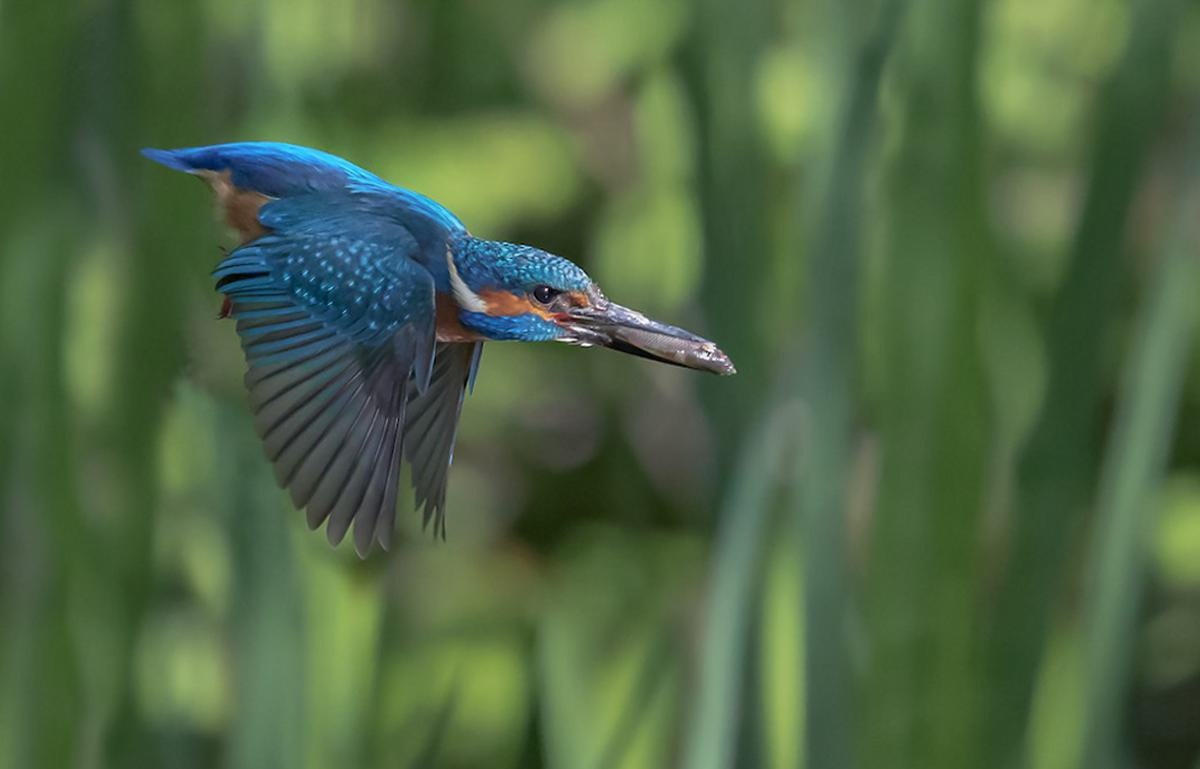kingfisher: (104, 144, 803, 545)
